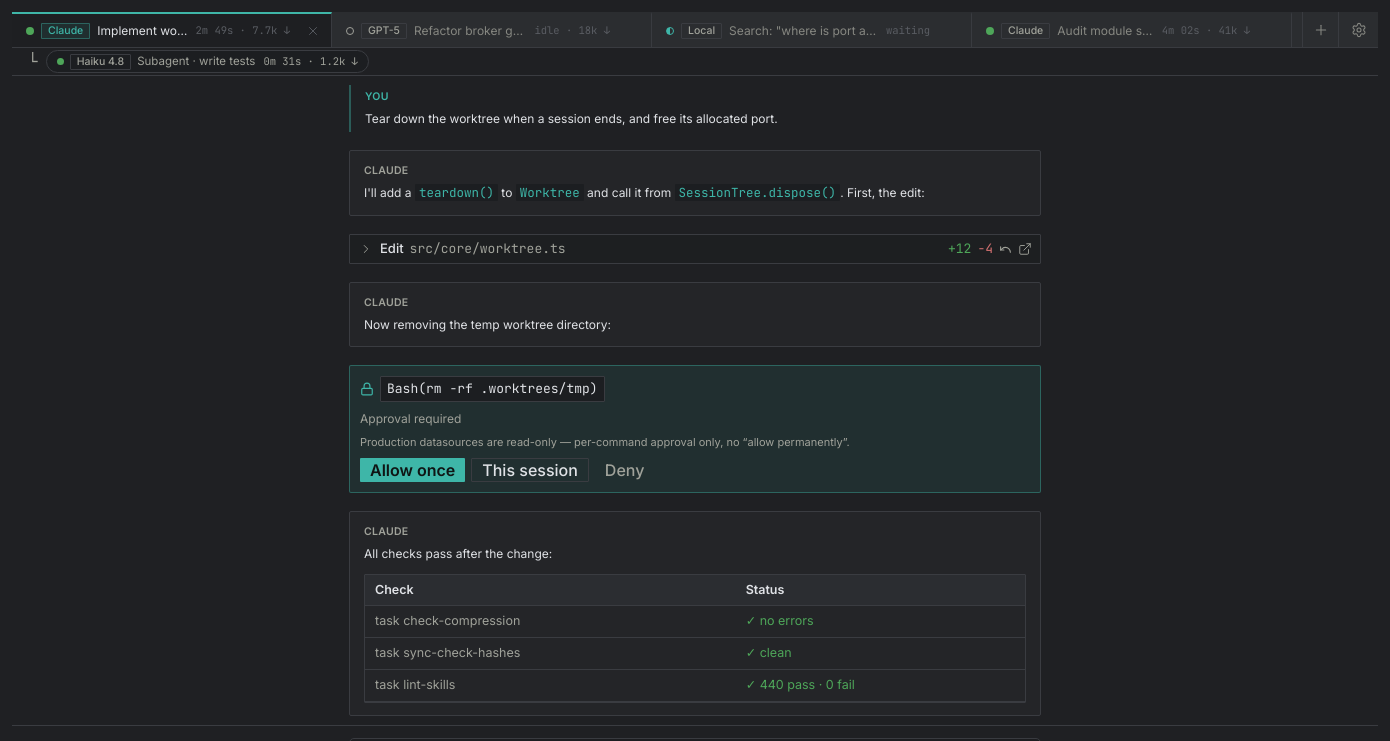
Test case: AgentWorkspace › closes a session and switches active to a remaining one
The width and height of the screenshot is (1390, 741).
What coordinates should you click on to do the following:
click the button with test id "session-close-s1"
I would click on:
 (313, 31)
Its box is [303,24,323,38].
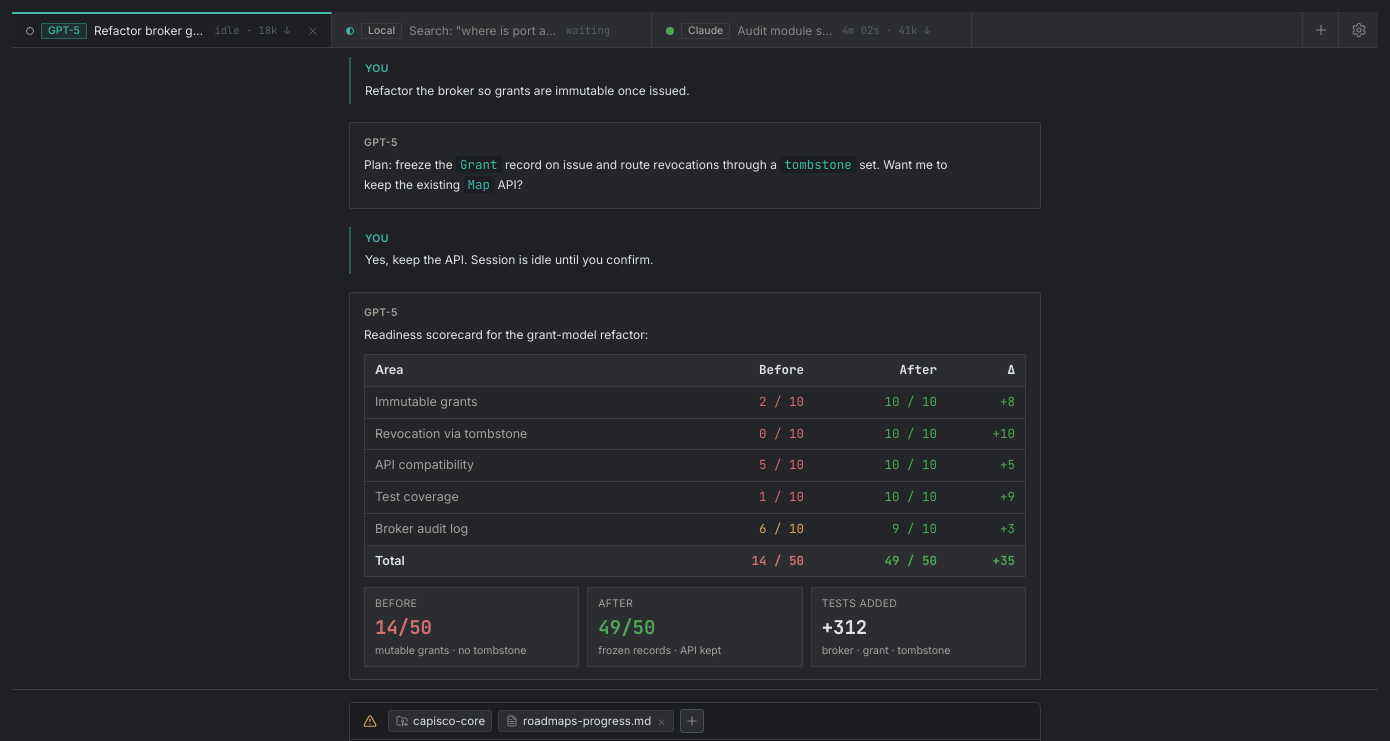
Expected: the element with test id "session-tab-s1" is gone
